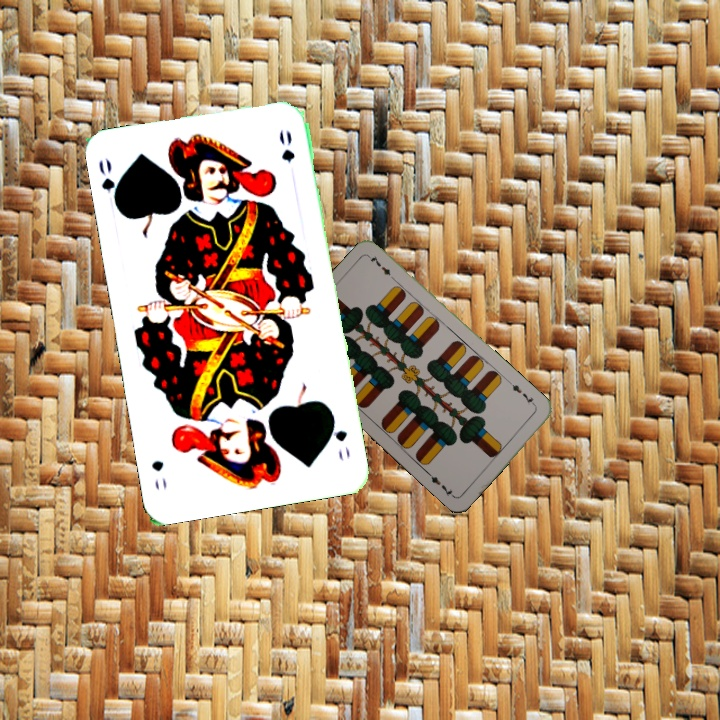E7: (506, 378, 539, 410)
GO: (94, 154, 124, 212), (327, 410, 353, 463)
